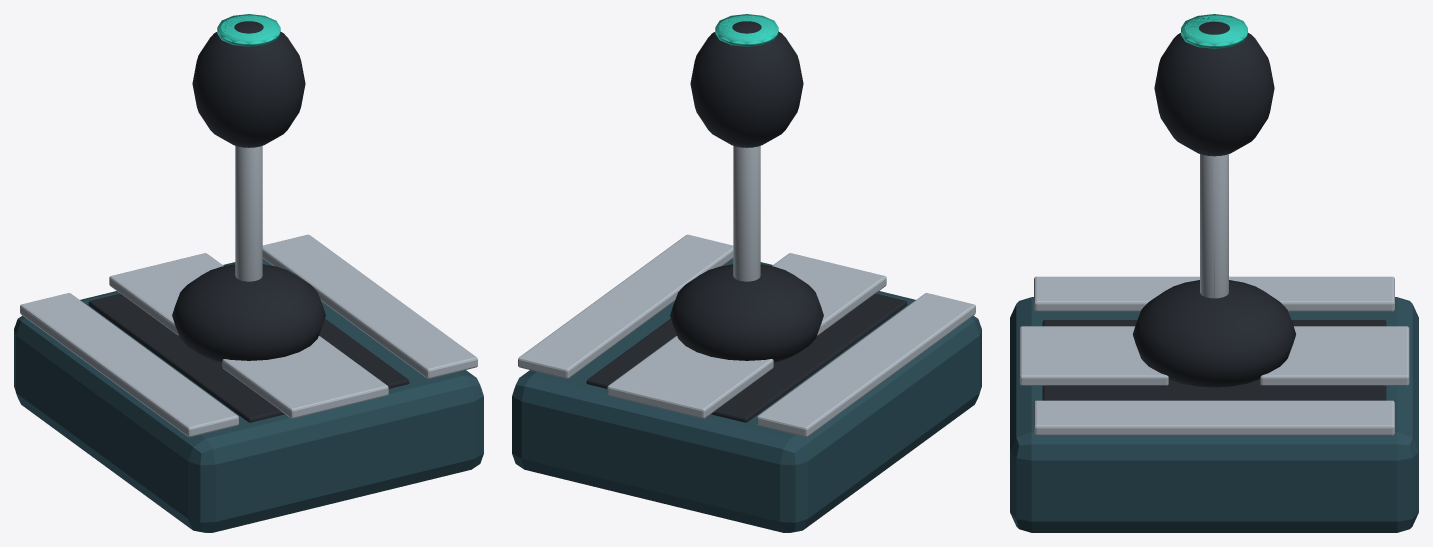
The model's file is shifter-four-gate.glb.
The picture shows the model from 3 angles, left to right: view 1: azimuth 30°, elevation 25°; view 2: azimuth 150°, elevation 25°; view 3: azimuth 270°, elevation 25°; orthographic projection. The views are drawn at different scales.
Visible parts, largest first — view 1: housing, boot, gate_plate0, knob, gate_plate1, gate_well, gate_plate3, gate_plate2, lever, knob_cap, knob_cap.001; view 2: housing, boot, gate_plate0, knob, gate_plate1, gate_well, gate_plate2, gate_plate3, lever, knob_cap, knob_cap.001; view 3: housing, boot, gate_plate1, knob, gate_plate0, gate_plate2, gate_plate3, gate_well, lever, knob_cap.001, knob_cap.
Boxes of the visible parts, x1,y1,x2,y2 form: housing: [14, 258, 483, 532]; boot: [172, 264, 325, 362]; gate_plate0: [20, 293, 238, 437]; knob: [192, 21, 305, 147]; gate_plate1: [262, 234, 477, 378]; gate_well: [88, 293, 409, 422]; gate_plate3: [222, 336, 388, 418]; gate_plate2: [109, 253, 223, 335]; lever: [235, 146, 262, 281]; knob_cap: [217, 15, 280, 44]; knob_cap.001: [217, 14, 280, 46]; housing: [512, 258, 981, 532]; boot: [670, 264, 823, 362]; gate_plate0: [757, 293, 975, 437]; knob: [690, 21, 803, 147]; gate_plate1: [518, 234, 733, 378]; gate_well: [586, 293, 907, 422]; gate_plate2: [607, 336, 773, 418]; gate_plate3: [772, 253, 886, 335]; lever: [733, 146, 760, 281]; knob_cap: [715, 15, 778, 44]; knob_cap.001: [715, 14, 778, 46]; housing: [1010, 297, 1418, 532]; boot: [1132, 280, 1296, 387]; gate_plate1: [1034, 400, 1394, 435]; knob: [1154, 21, 1274, 156]; gate_plate0: [1034, 276, 1394, 311]; gate_plate2: [1260, 326, 1409, 385]; gate_plate3: [1019, 326, 1168, 385]; gate_well: [1042, 320, 1386, 400]; lever: [1200, 154, 1228, 298]; knob_cap.001: [1181, 14, 1247, 48]; knob_cap: [1181, 15, 1247, 46].
Size of the model in its own units: 0.15 by 0.202 by 0.17.
